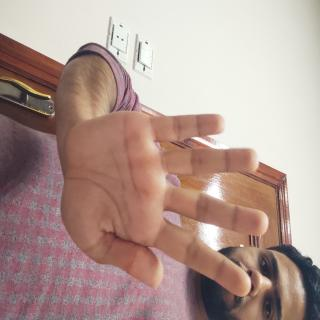SHEEN: (80, 67, 226, 320)
